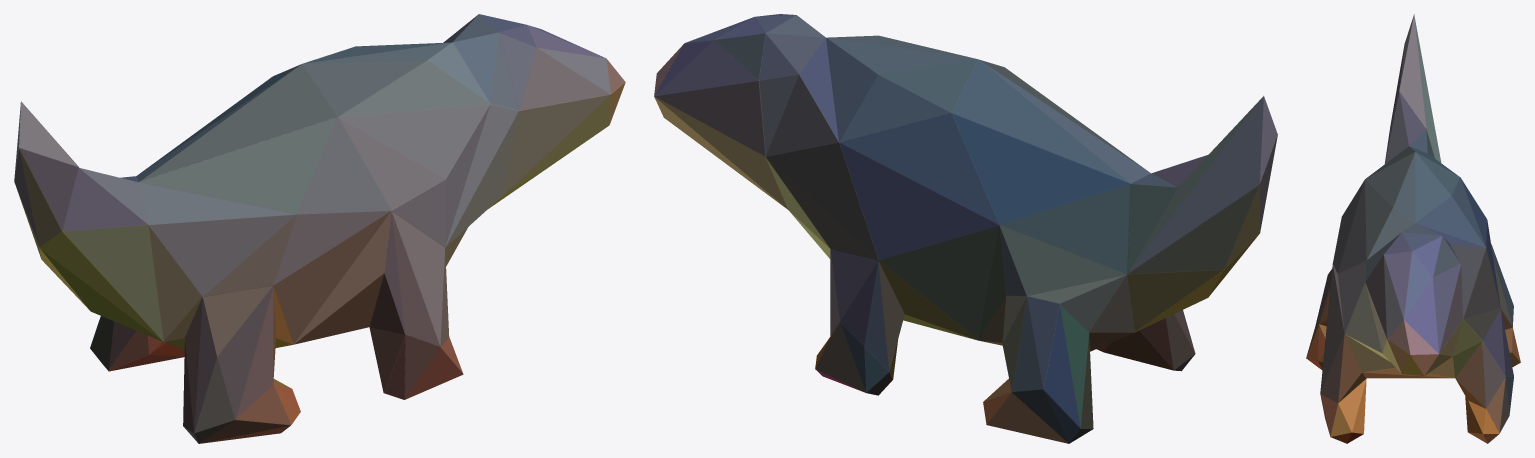
File: SpecieModel3.fbx
3 views of the same model, side by side, from view 1: azimuth 30°, elevation 25°; view 2: azimuth 150°, elevation 25°; view 3: azimuth 270°, elevation 25° (orthographic). The views are drawn at different scales.
Visible parts, largest first — view 1: Mesh_0; view 2: Mesh_0; view 3: Mesh_0.
Boxes of the visible parts, x1=… form: Mesh_0: x1=14, y1=14, x2=625, y2=443; Mesh_0: x1=654, y1=14, x2=1277, y2=443; Mesh_0: x1=1306, y1=14, x2=1520, y2=443.
Size of the model in its own units: 166 by 89.06 by 62.44.
1 material, 1 textured.
